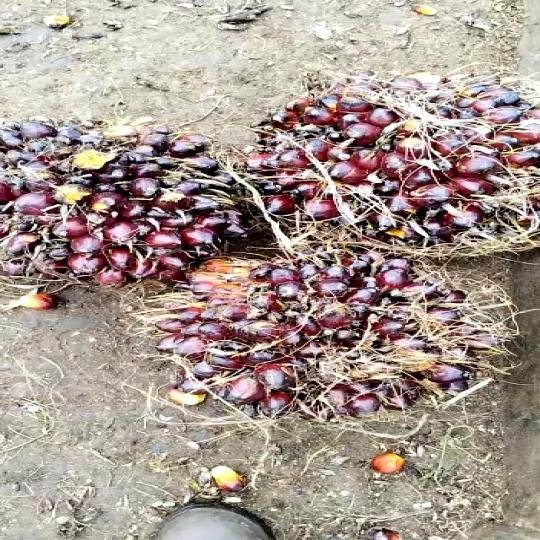kurang masak: (164, 247, 523, 444), (231, 62, 540, 262), (7, 127, 248, 297)
